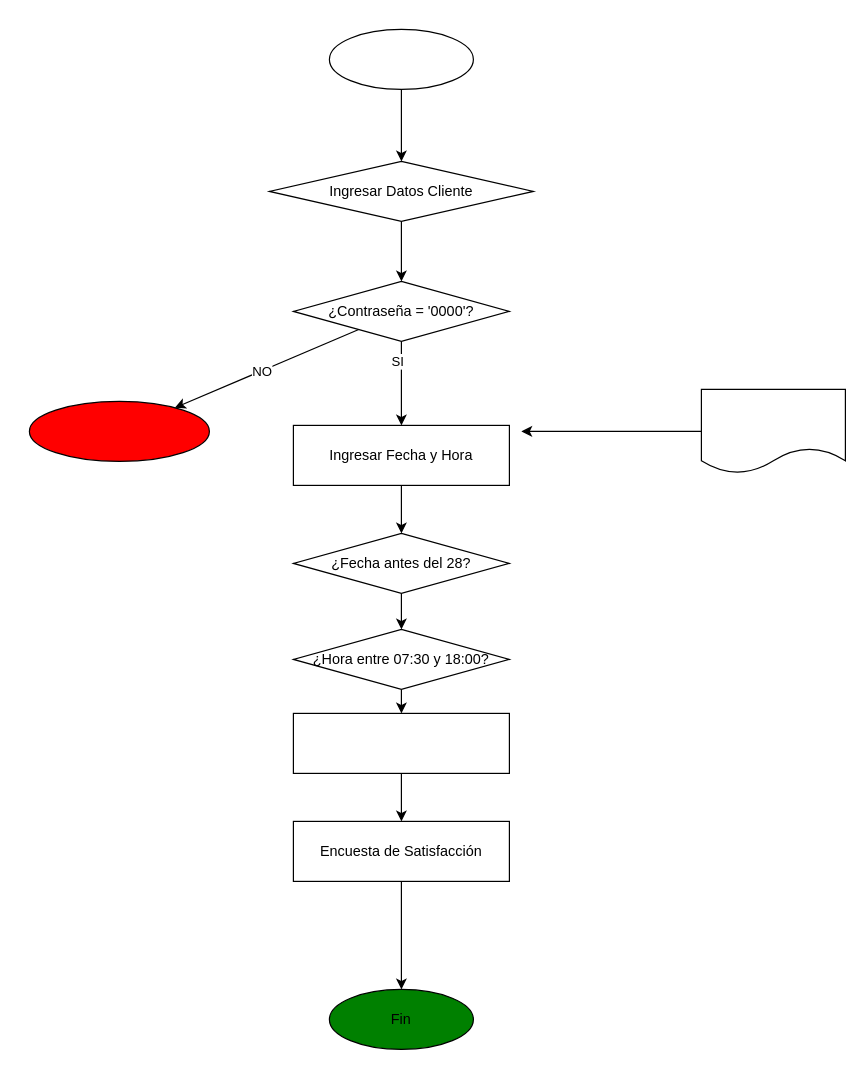
Image size: 866x1070. Some labels were removed from this diagram. Each missing label, with the box of its shape:
Cliente tiene deuda (Fin): (28, 400, 209, 461)
Inicio: (328, 28, 473, 89)
Instalación del Servicio: (292, 712, 509, 773)
